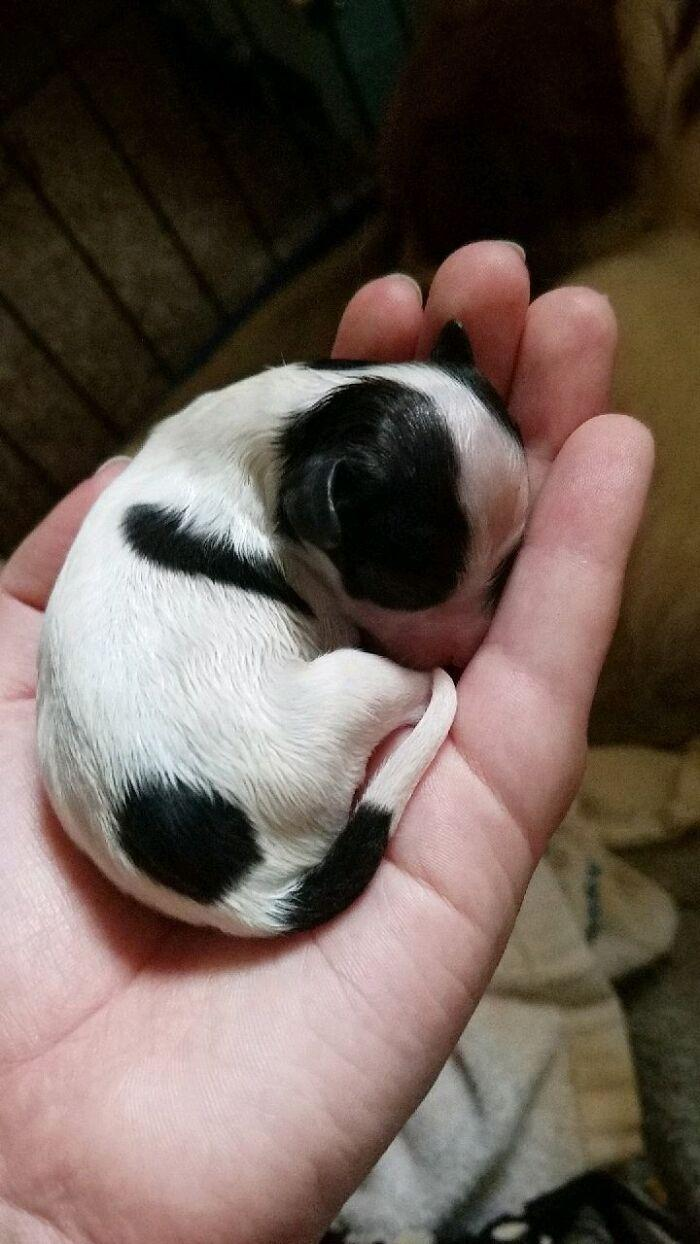puppy-dog: (38, 321, 533, 944)
